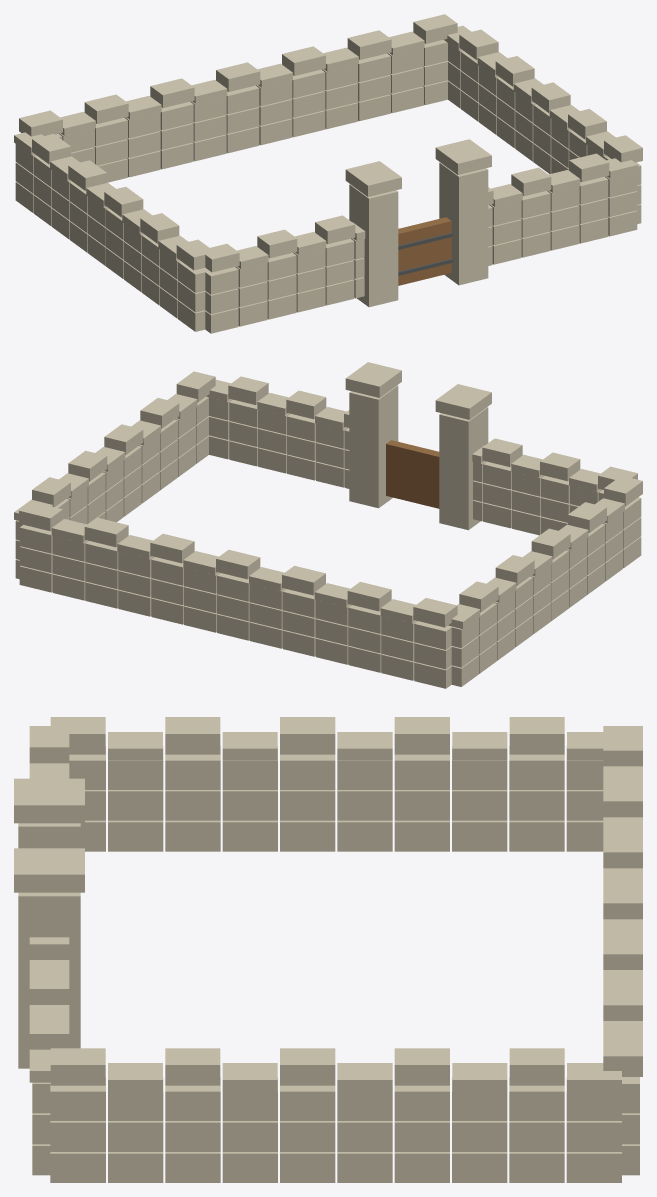
Rendered from remparts_t3.glb.
3 views of the same model, one above another, from view 1: azimuth 30°, elevation 25°; view 2: azimuth 150°, elevation 25°; view 3: azimuth 270°, elevation 25° (orthographic). The views are drawn at different scales.
Parts seen in each view (by area): view 1: rempart-arriere, rempart-gauche, rempart-droite, rempart-avant-gauche, rempart-avant-droite, Tour_porte.001, Tour_porte, rempart-porte, Couronnement, Couronnement.001; view 2: rempart-arriere, rempart-gauche, rempart-droite, rempart-avant-droite, rempart-avant-gauche, Tour_porte.001, Tour_porte, rempart-porte, Couronnement, Couronnement.001; view 3: rempart-droite, rempart-gauche, rempart-arriere, rempart-avant-droite, Tour_porte.001, Couronnement, Couronnement.001, rempart-avant-gauche, Tour_porte.
Part boxes in pixels (x1,y1,x2,y2): rempart-arriere: (19, 14, 457, 182); rempart-gauche: (14, 132, 209, 331); rempart-droite: (444, 25, 642, 223); rempart-avant-gauche: (200, 215, 365, 333); rempart-avant-droite: (488, 153, 637, 265); Tour_porte.001: (439, 162, 488, 285); Tour_porte: (349, 184, 398, 307); rempart-porte: (398, 217, 451, 285); Couronnement: (345, 161, 401, 196); Couronnement.001: (435, 139, 491, 174); rempart-arriere: (19, 501, 457, 688); rempart-gauche: (448, 478, 642, 686); rempart-droite: (14, 371, 215, 579); rempart-avant-droite: (206, 376, 349, 488); rempart-avant-gauche: (472, 438, 637, 535); Tour_porte.001: (349, 385, 398, 508); Tour_porte: (439, 407, 488, 530); rempart-porte: (386, 440, 439, 508); Couronnement: (435, 384, 491, 419); Couronnement.001: (345, 362, 401, 397); rempart-droite: (50, 1048, 621, 1182); rempart-gauche: (50, 717, 603, 851); rempart-arriere: (603, 726, 642, 1175); rempart-avant-droite: (29, 937, 69, 1175); Tour_porte.001: (18, 892, 80, 1068); Couronnement: (14, 778, 84, 823); Couronnement.001: (14, 848, 84, 892); rempart-avant-gauche: (29, 726, 69, 778); Tour_porte: (18, 823, 80, 848).
Size of the model in its own units: 2.9 by 0.76 by 2.21.
